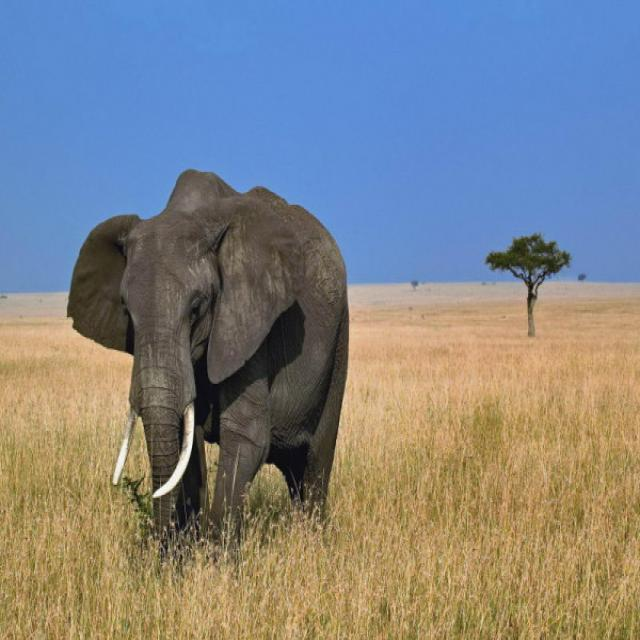Elephant: (66, 179, 356, 549)
